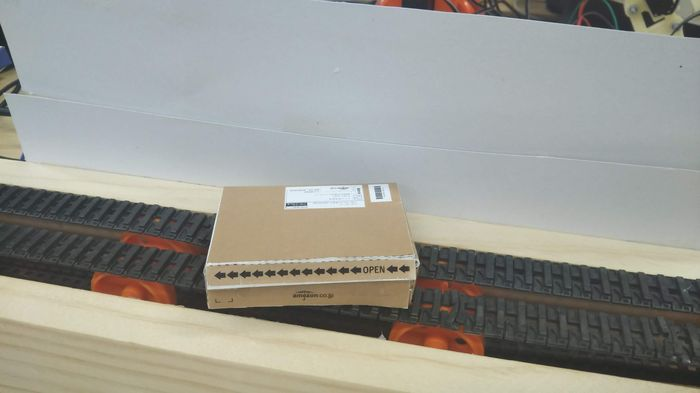box2: (202, 177, 419, 314)
